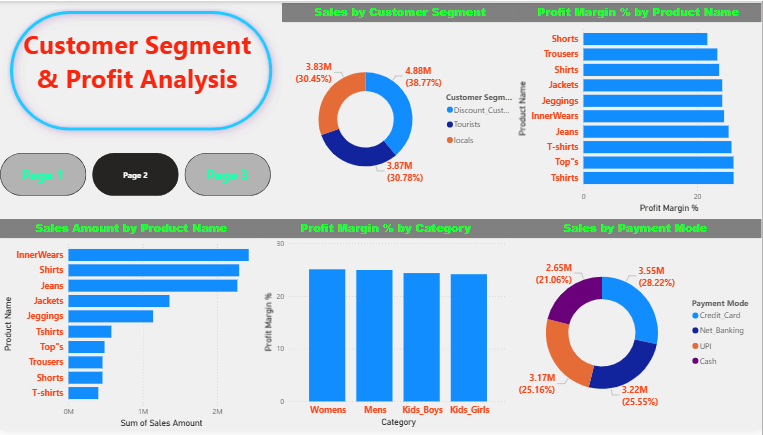

This screenshot's page, from the dashboard's own definition file:
{"tool":"powerbi","page":{"name":"Dashboard_2","canvas":[1280,720],"ordinal":1},"visuals":[{"type":"clusteredBarChart","title":"Profit Margin % by Product Name","fields":{"Category":["Familiars_Clothing_Database.Product Name"],"Y":["Date Table.Profit Margin %"]},"box":[865.5,3.4,413.8,356.9],"z":0},{"type":"clusteredBarChart","title":"Sales Amount by Product Name","fields":{"Y":["Sum(Familiars_Clothing_Database.Sales Amount)"],"Category":["Familiars_Clothing_Database.Product Name"]},"box":[0,365.5,441.4,355.2],"z":1000},{"type":"donutChart","title":"Sales by Customer Segment","fields":{"Category":["Familiars_Clothing_Database.Customer Segment"],"Y":["Sum(Familiars_Clothing_Database.Sales Amount)"]},"box":[474.1,3.4,396.6,363.8],"z":2000},{"type":"donutChart","title":"Sales by Payment Mode","fields":{"Category":["Familiars_Clothing_Database.Payment Mode"],"Y":["Sum(Familiars_Clothing_Database.Sales Amount)"]},"box":[855.2,365.5,424.1,355.2],"z":3000},{"type":"columnChart","fields":{"Category":["Familiars_Clothing_Database.Category"],"Y":["Date Table.Profit Margin %"]},"box":[437.9,365.5,419,353.4],"z":4000},{"type":"shape","box":[0,0,474.1,234.5],"z":5000},{"type":"textbox","box":[25.9,37.9,410.3,150],"z":6000},{"type":"pageNavigator","box":[0,255.2,456.9,72.4],"z":7000}]}

Visuals, with their boxes in screenshot pixels (x1, y1, x2, y2), scaled from the page's 1280x720 canvas onto the 763x435 screenshot:
"Profit Margin % by Product Name" clusteredBarChart: rect(516, 2, 762, 218)
"Sales Amount by Product Name" clusteredBarChart: rect(0, 221, 263, 434)
"Sales by Customer Segment" donutChart: rect(283, 2, 519, 222)
"Sales by Payment Mode" donutChart: rect(510, 221, 762, 434)
columnChart - Familiars_Clothing_Database.Category x Date Table.Profit Margin %: rect(261, 221, 511, 434)
shape: rect(0, 0, 283, 142)
textbox: rect(15, 23, 260, 114)
pageNavigator: rect(0, 154, 272, 198)
